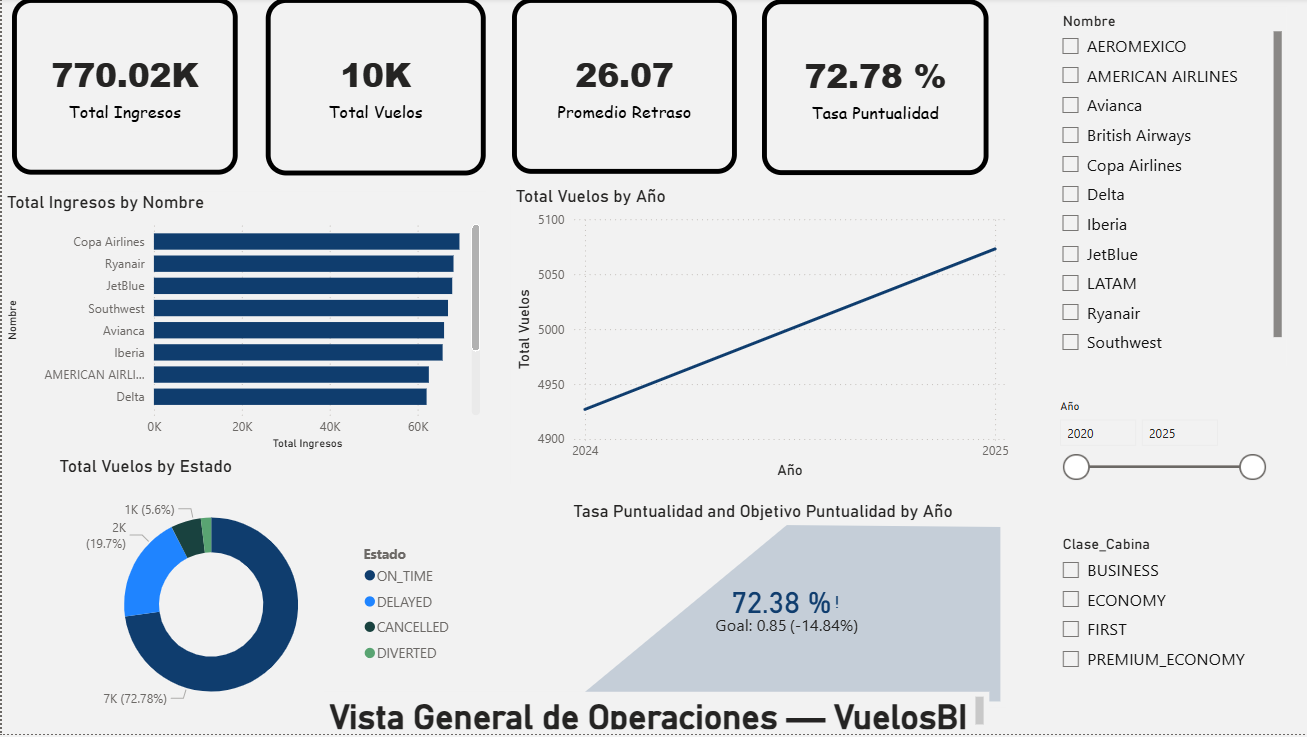

What the dashboard file says about the page in this screenshot:
{"tool":"powerbi","page":{"name":"Page 1","canvas":[1280,720],"ordinal":0},"visuals":[{"type":"card","fields":{"Values":["Hechos_Vuelo.Total Ingresos"]},"box":[9.6,0,220.9,172.9],"z":0},{"type":"card","fields":{"Values":["Hechos_Vuelo.Total Vuelos"]},"box":[258.3,0,215,173.3],"z":1000},{"type":"card","fields":{"Values":["Hechos_Vuelo.Promedio Retraso"]},"box":[498.3,0,220,171.7],"z":2000},{"type":"card","fields":{"Values":["Hechos_Vuelo.Tasa Puntualidad"]},"box":[743.3,1.7,221.7,171.7],"z":3000},{"type":"clusteredBarChart","fields":{"Category":["DIM_AEROLINEA.Nombre"],"Y":["Hechos_Vuelo.Total Ingresos"]},"box":[0,189.4,472.7,257.6],"z":4000},{"type":"lineChart","fields":{"Category":["DIM_TIEMPO.Jerarquía tiempo.Año","DIM_TIEMPO.Jerarquía tiempo.Trimestre","DIM_TIEMPO.Jerarquía tiempo.Nombre_Mes","DIM_TIEMPO.Jerarquía tiempo.Dia"],"Y":["Hechos_Vuelo.Total Vuelos"]},"box":[498,184,492,292],"z":5000},{"type":"donutChart","fields":{"Category":["DIM_ESTADO_VUELO.Estado"],"Y":["Hechos_Vuelo.Total Vuelos"]},"box":[51.5,447,400,272.7],"z":6000},{"type":"slicer","fields":{"Values":["DIM_AEROLINEA.Nombre"]},"box":[1024.2,9.1,231.8,351.5],"z":7000},{"type":"slicer","fields":{"Values":["DIM_TIEMPO.Año"]},"box":[1022,388,222,116],"z":8000},{"type":"slicer","fields":{"Values":["DIM_CLASE.Clase_Cabina"]},"box":[1024.2,521.2,221.2,172.7],"z":9000},{"type":"kpi","fields":{"Indicator":["Hechos_Vuelo.Tasa Puntualidad"],"TrendLine":["DIM_TIEMPO.Año"],"Goal":["Hechos_Vuelo.Objetivo Puntualidad"]},"box":[554,492,428,202],"z":10000},{"type":"textbox","box":[315,678.3,650,41.7],"z":11000}]}

Visuals, with their boxes in screenshot pixels (x1, y1, x2, y2), scaled from the page's 1280x720 canvas onto the 1307x737 screenshot:
card - Hechos_Vuelo.Total Ingresos: (left=10, top=0, right=235, bottom=177)
card - Hechos_Vuelo.Total Vuelos: (left=264, top=0, right=483, bottom=177)
card - Hechos_Vuelo.Promedio Retraso: (left=509, top=0, right=733, bottom=176)
card - Hechos_Vuelo.Tasa Puntualidad: (left=759, top=2, right=985, bottom=177)
clusteredBarChart - DIM_AEROLINEA.Nombre x Hechos_Vuelo.Total Ingresos: (left=0, top=194, right=483, bottom=458)
lineChart - DIM_TIEMPO.Jerarquía tiempo.Año x DIM_TIEMPO.Jerarquía tiempo.Trimestre: (left=509, top=188, right=1011, bottom=487)
donutChart - DIM_ESTADO_VUELO.Estado x Hechos_Vuelo.Total Vuelos: (left=53, top=458, right=461, bottom=736)
slicer - DIM_AEROLINEA.Nombre: (left=1046, top=9, right=1282, bottom=369)
slicer - DIM_TIEMPO.Año: (left=1044, top=397, right=1270, bottom=516)
slicer - DIM_CLASE.Clase_Cabina: (left=1046, top=534, right=1272, bottom=710)
kpi - Hechos_Vuelo.Tasa Puntualidad x DIM_TIEMPO.Año: (left=566, top=504, right=1003, bottom=710)
textbox: (left=322, top=694, right=985, bottom=736)
